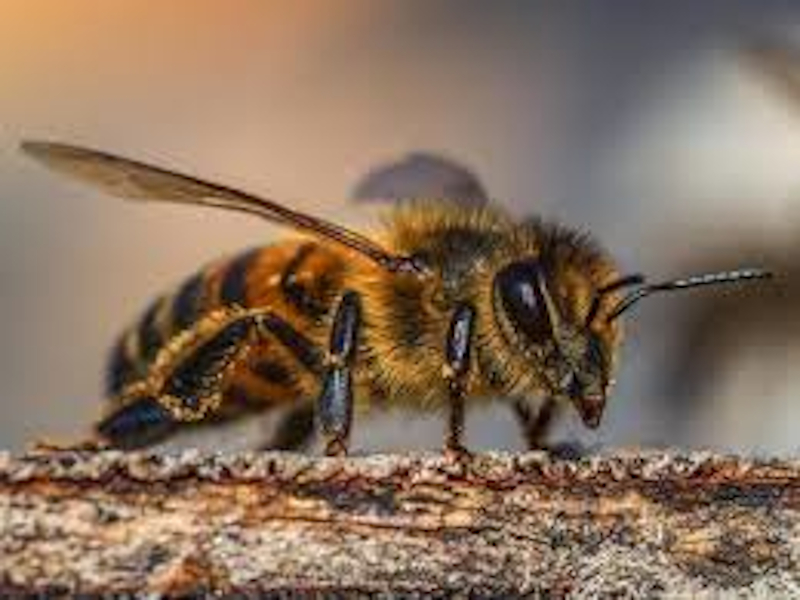abeja: (16, 85, 769, 482)
